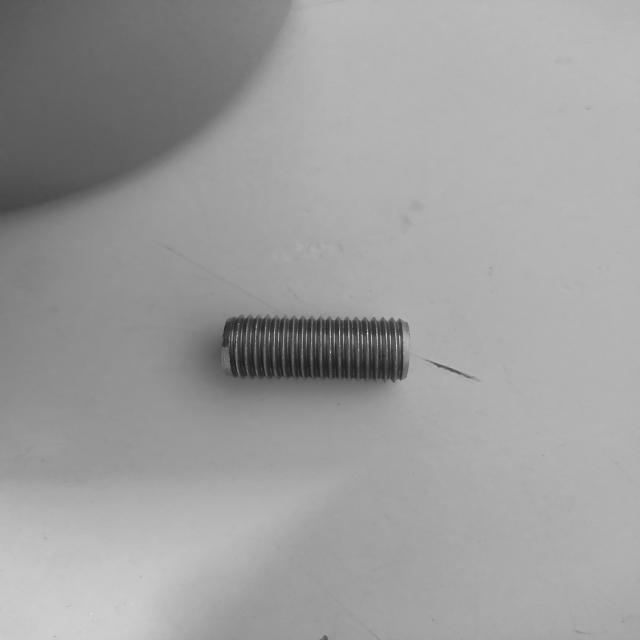Normal: (222, 313, 411, 383)
